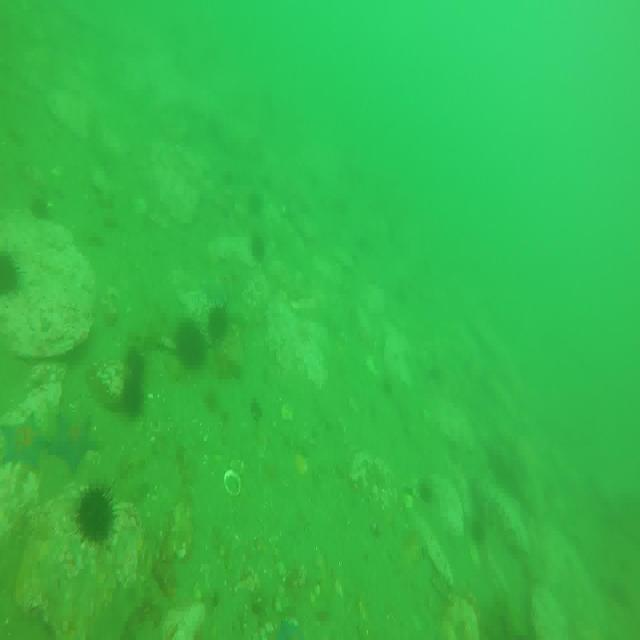echinus: (76, 485, 114, 544), (178, 319, 206, 372), (120, 377, 146, 421), (203, 305, 233, 337), (0, 251, 18, 300), (247, 233, 269, 267), (126, 346, 147, 376), (470, 514, 489, 544)
starfish: (2, 414, 50, 474), (53, 410, 102, 468)
